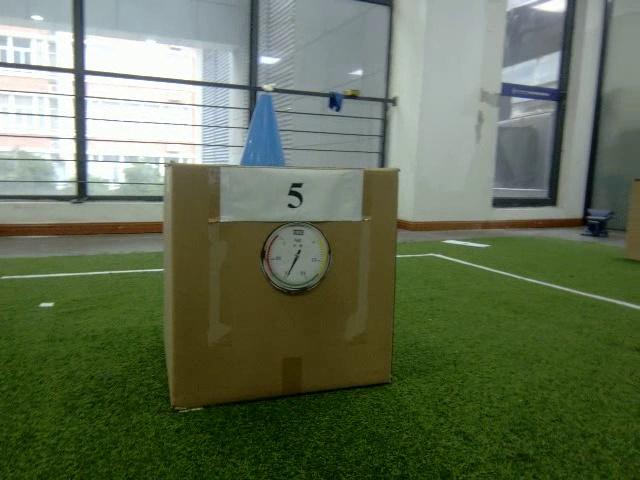5: (284, 175, 304, 210)
Dashboard: (261, 221, 331, 296)
blue_barrel: (238, 93, 288, 168)
ssi: (292, 226, 305, 236)
